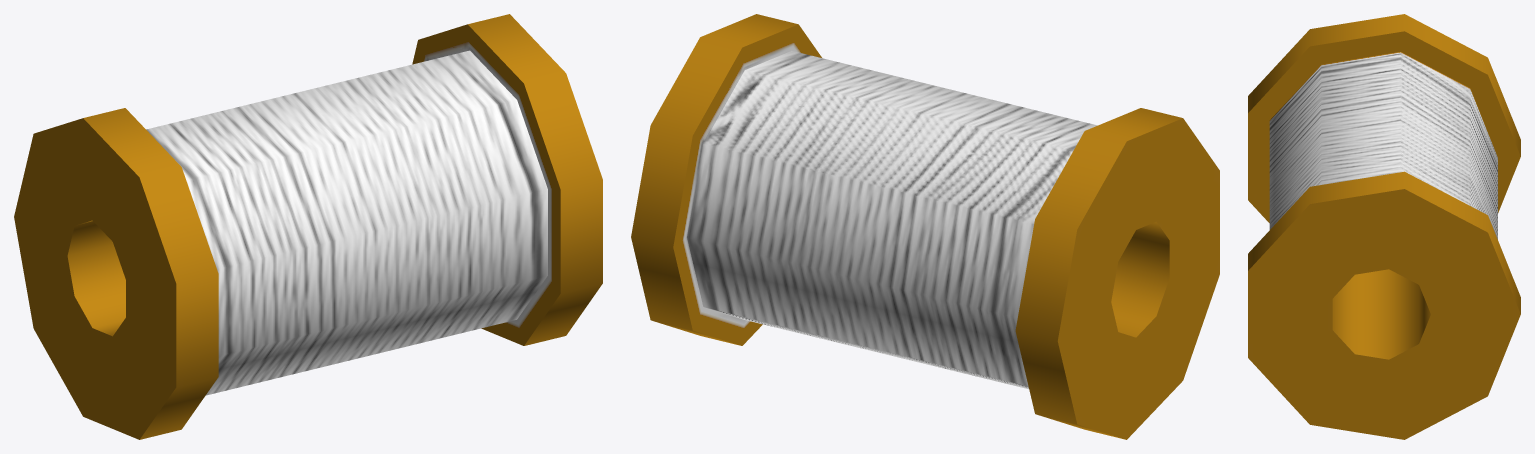
The picture shows the model from 3 angles, left to right: view 1: azimuth 30°, elevation 25°; view 2: azimuth 150°, elevation 25°; view 3: azimuth 270°, elevation 25°; orthographic projection. The views are drawn at different scales.
Visible parts, largest first — view 1: pasted__shengzi_L5; view 2: pasted__shengzi_L5; view 3: pasted__shengzi_L5.
Part boxes in pixels (x1,y1,x2,y2): pasted__shengzi_L5: (14, 14, 602, 439); pasted__shengzi_L5: (631, 14, 1219, 439); pasted__shengzi_L5: (1248, 14, 1520, 439).
Size of the model in its own units: 1.02 by 0.6852 by 0.6748.
1 material, 1 textured.
